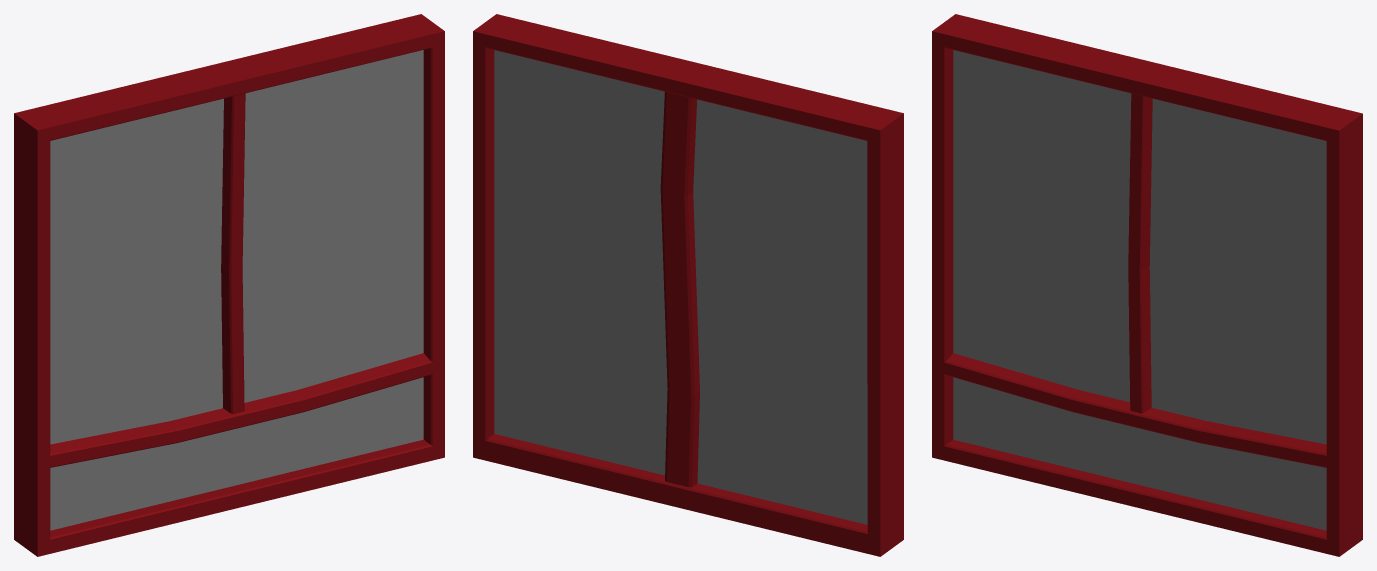
File: SM_MH_01_Wood_01_Wall_04.fbx
The picture shows the model from 3 angles, left to right: view 1: azimuth 30°, elevation 25°; view 2: azimuth 150°, elevation 25°; view 3: azimuth 330°, elevation 25°; orthographic projection.
Parts seen in each view (by area): view 1: SM_MH_01_Wood_01_Wall_04_LOD0; view 2: SM_MH_01_Wood_01_Wall_04_LOD0; view 3: SM_MH_01_Wood_01_Wall_04_LOD0.
Boxes of the visible parts, <box> form: SM_MH_01_Wood_01_Wall_04_LOD0: <box>14,14,444,556</box>; SM_MH_01_Wood_01_Wall_04_LOD0: <box>473,14,903,556</box>; SM_MH_01_Wood_01_Wall_04_LOD0: <box>932,14,1362,556</box>.
Size of what is drawn, in the model's own units: 300 by 300 by 30.
